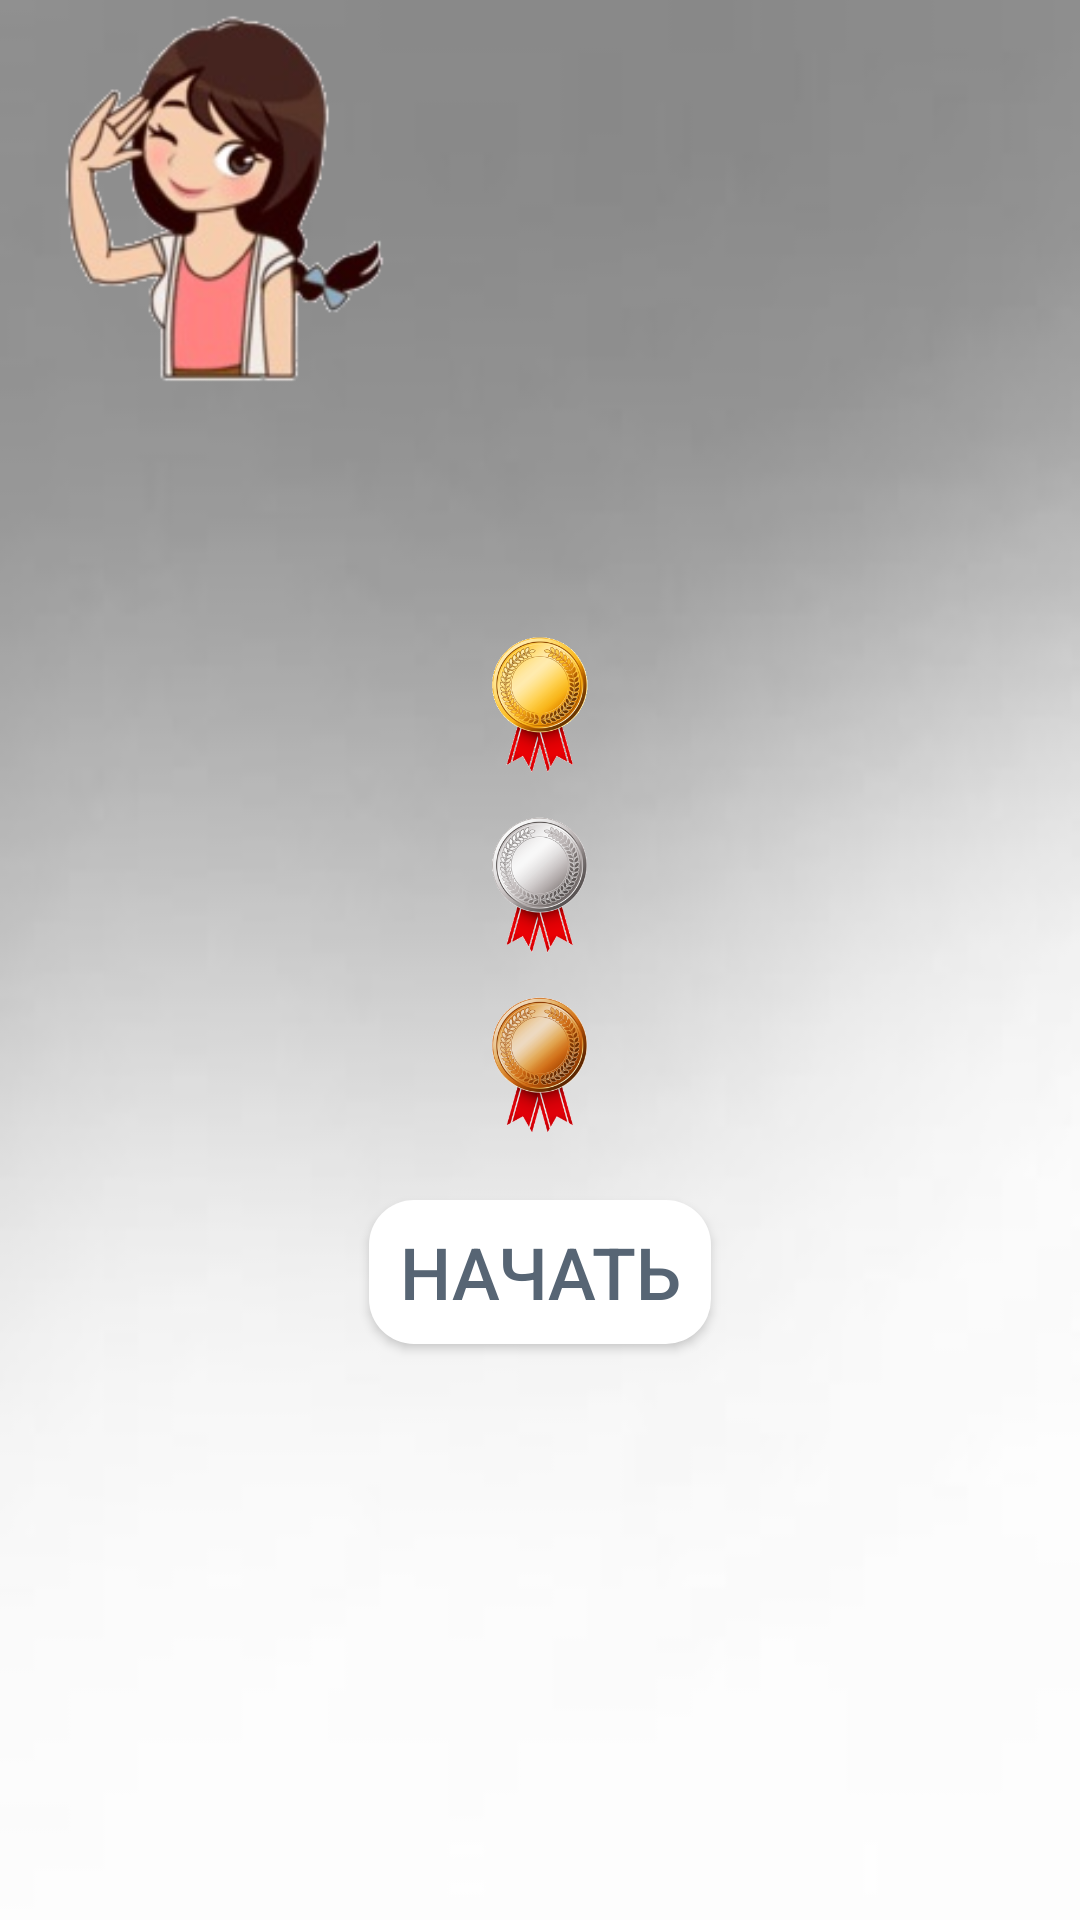

Where icons sit on this 1080×1920 app screen, as detection(x1, y1, x2, y2):
bronze medals: detection(492, 997, 587, 1132)
gold medals: detection(492, 637, 588, 772)
silver medals: detection(493, 819, 587, 952)
